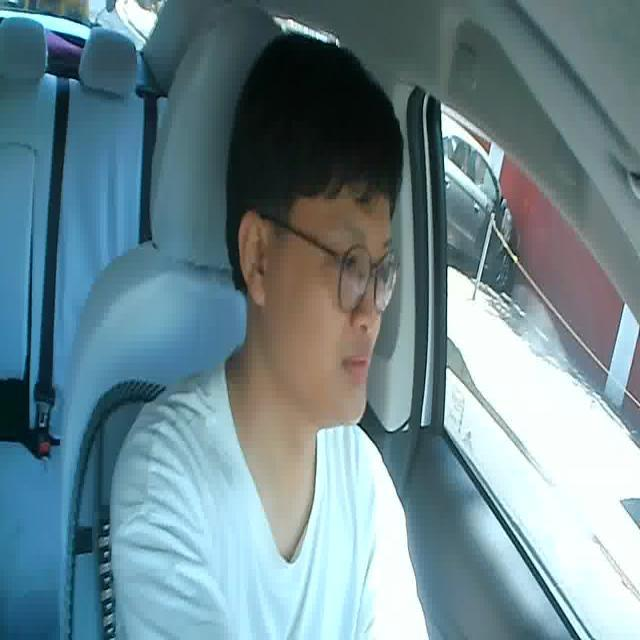Attentive: (225, 37, 398, 422)
Eye-Open: (338, 251, 363, 274), (367, 260, 389, 282)
Normal: (334, 349, 374, 386)
